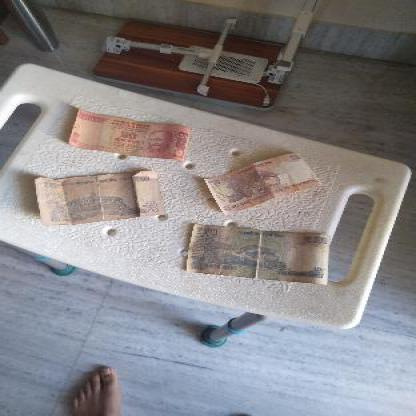Old100Back: (192, 224, 329, 281)
Old10Back: (205, 152, 320, 214)
Old20Front: (69, 109, 191, 160)
Old50Back: (36, 172, 164, 224)
